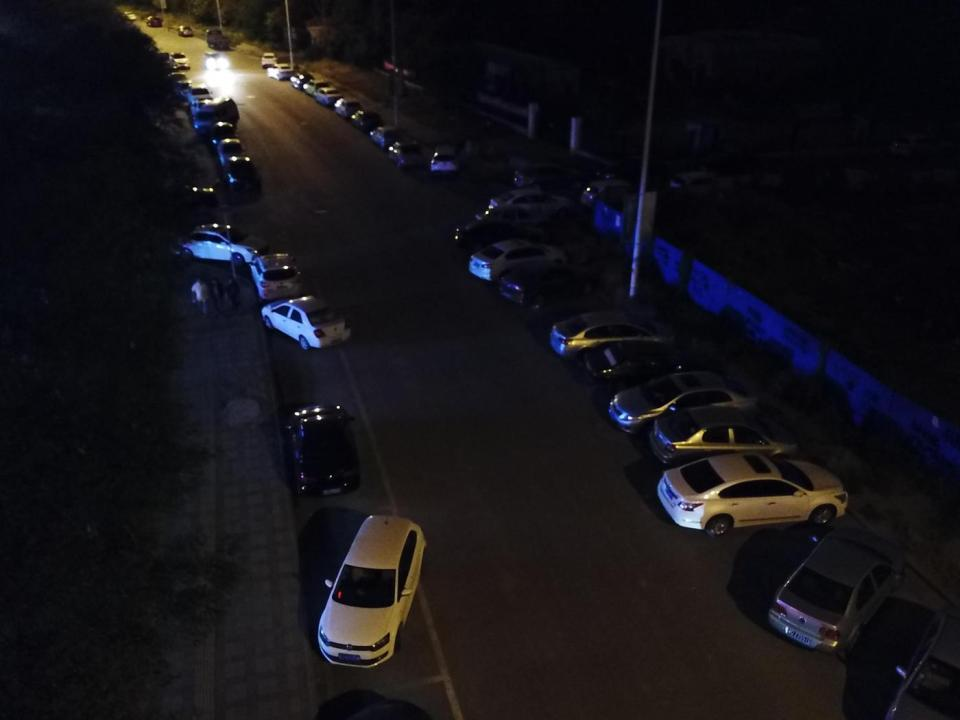car: (767, 524, 911, 660), (315, 510, 428, 667), (656, 455, 849, 536), (599, 374, 758, 440), (647, 406, 802, 467), (277, 396, 366, 500), (547, 307, 678, 363), (260, 293, 354, 353), (166, 219, 272, 266), (576, 340, 688, 384), (496, 263, 602, 308), (469, 238, 570, 280), (454, 218, 553, 253), (489, 187, 576, 221), (142, 179, 223, 213), (249, 252, 304, 301), (514, 159, 586, 191), (597, 154, 665, 185), (693, 150, 762, 178), (582, 177, 640, 210), (474, 208, 550, 233), (221, 155, 263, 193), (387, 138, 428, 169), (429, 145, 467, 176), (211, 138, 250, 167), (369, 124, 405, 150), (350, 108, 385, 132), (165, 50, 194, 74), (312, 86, 344, 107), (188, 96, 217, 119), (334, 96, 364, 118), (188, 84, 215, 106), (202, 50, 228, 72), (264, 63, 297, 80), (210, 124, 238, 144), (288, 72, 316, 90), (303, 78, 329, 95), (259, 51, 278, 69)
van: (195, 98, 243, 134), (673, 173, 723, 199)
